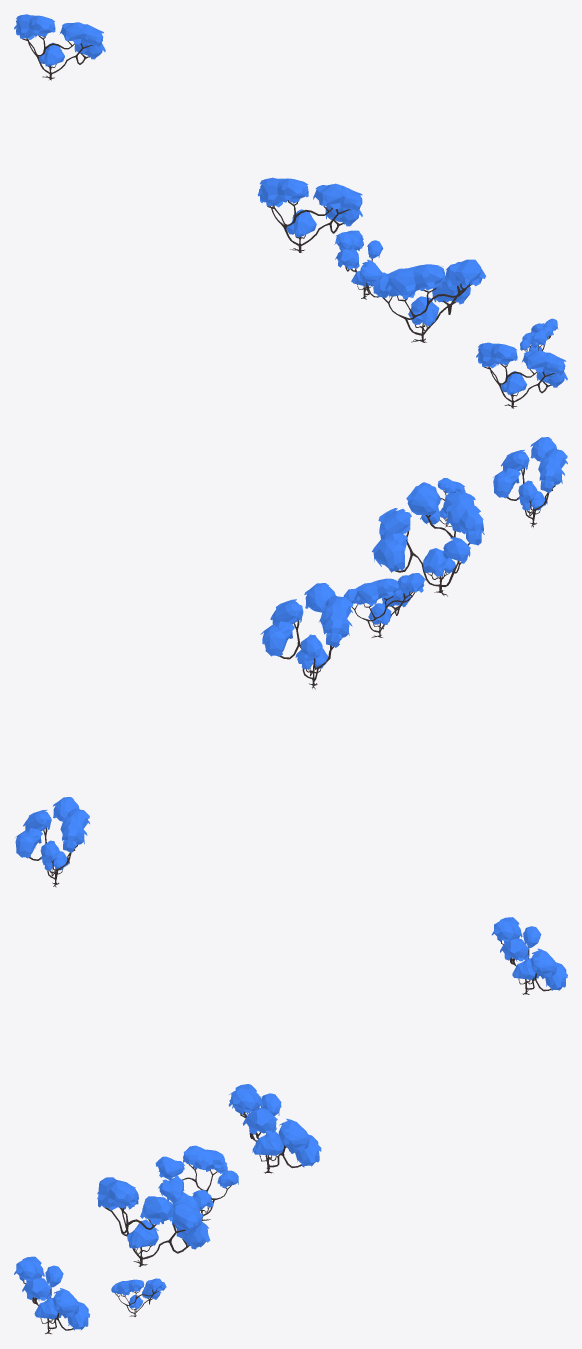
File: Planterfaraway.glb
The picture shows the model from 3 angles, top to bottom: view 1: azimuth 30°, elevation 25°; view 2: azimuth 150°, elevation 25°; view 3: azimuth 330°, elevation 25°; orthographic projection. The views are drawn at different scales.
Parts seen in each view (by area): view 1: Tree_Forest_Blue_03.006, Tree_Forest_Blue_03.002, Tree_Forest_Blue_03.001, Tree_Forest_Blue_03.005, Tree_Forest_Blue_03.003, Tree_Forest_Blue_03.004; view 2: Tree_Forest_Blue_03.006, Tree_Forest_Blue_03.002, Tree_Forest_Blue_03.001, Tree_Forest_Blue_03.005, Tree_Forest_Blue_03.003, Tree_Forest_Blue_03.004; view 3: Tree_Forest_Blue_03.006, Tree_Forest_Blue_03.002, Tree_Forest_Blue_03.005, Tree_Forest_Blue_03.001, Tree_Forest_Blue_03.003, Tree_Forest_Blue_03.004.
Part boxes in pixels (x1=…): Tree_Forest_Blue_03.006: x1=373, y1=259, x2=485, y2=342; Tree_Forest_Blue_03.002: x1=257, y1=177, x2=362, y2=252; Tree_Forest_Blue_03.001: x1=14, y1=14, x2=105, y2=80; Tree_Forest_Blue_03.005: x1=476, y1=342, x2=567, y2=408; Tree_Forest_Blue_03.003: x1=334, y1=230, x2=388, y2=299; Tree_Forest_Blue_03.004: x1=520, y1=318, x2=558, y2=351; Tree_Forest_Blue_03.006: x1=372, y1=483, x2=484, y2=596; Tree_Forest_Blue_03.002: x1=260, y1=583, x2=353, y2=689; Tree_Forest_Blue_03.001: x1=15, y1=797, x2=89, y2=887; Tree_Forest_Blue_03.005: x1=493, y1=437, x2=567, y2=527; Tree_Forest_Blue_03.003: x1=343, y1=573, x2=425, y2=637; Tree_Forest_Blue_03.004: x1=419, y1=478, x2=465, y2=527; Tree_Forest_Blue_03.006: x1=97, y1=1177, x2=210, y2=1266; Tree_Forest_Blue_03.002: x1=228, y1=1084, x2=321, y2=1173; Tree_Forest_Blue_03.005: x1=14, y1=1256, x2=90, y2=1334; Tree_Forest_Blue_03.001: x1=491, y1=917, x2=567, y2=994; Tree_Forest_Blue_03.003: x1=155, y1=1145, x2=238, y2=1220; Tree_Forest_Blue_03.004: x1=111, y1=1278, x2=166, y2=1316.
Bounding box in the file's own units: 8.63 × 6.91 × 64.47.
Materials: 1 (1 with a texture image).
